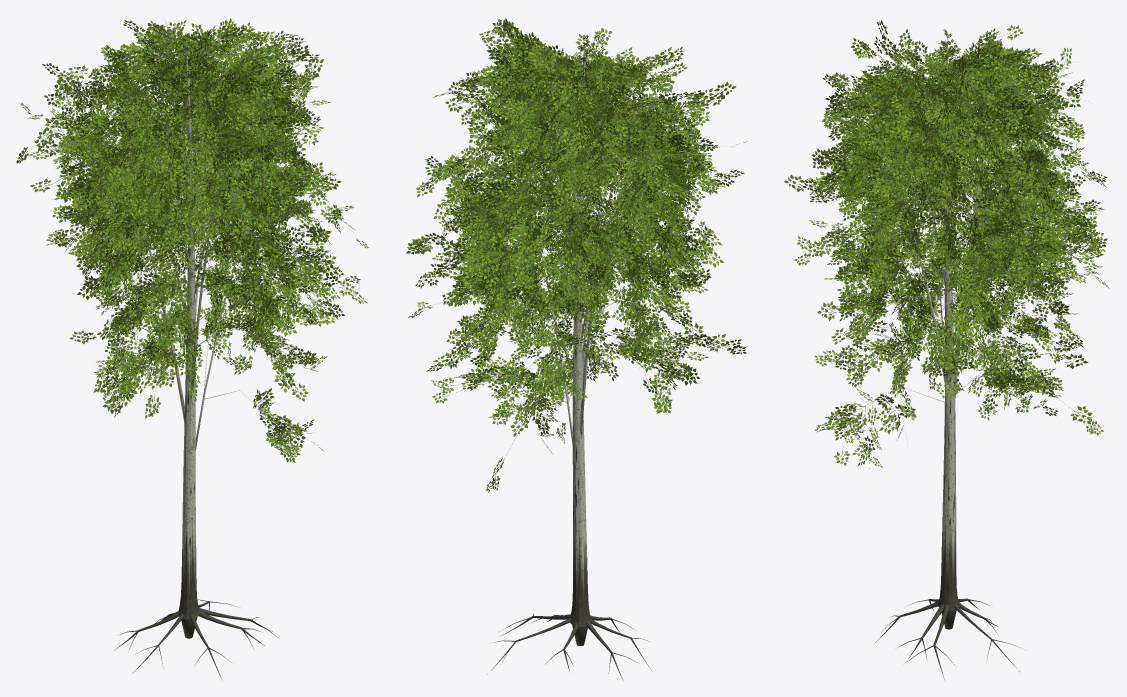
The model's file is tree_east_birch_overstory_002.glb.
3 renders of one model, left to right at view 1: azimuth 30°, elevation 25°; view 2: azimuth 150°, elevation 25°; view 3: azimuth 270°, elevation 25°, orthographic. The views are drawn at different scales.
Visible parts, largest first — view 1: tree.east_birch.overstory.002.foliage.001, tree.east_birch.overstory.002.wood.001, tree.east_birch.overstory.002.roots.001; view 2: tree.east_birch.overstory.002.foliage.001, tree.east_birch.overstory.002.wood.001, tree.east_birch.overstory.002.roots.001; view 3: tree.east_birch.overstory.002.foliage.001, tree.east_birch.overstory.002.wood.001, tree.east_birch.overstory.002.roots.001.
Part boxes in pixels (x1=…): tree.east_birch.overstory.002.foliage.001: x1=16, y1=18, x2=368, y2=462; tree.east_birch.overstory.002.wood.001: x1=31, y1=33, x2=331, y2=618; tree.east_birch.overstory.002.roots.001: x1=114, y1=599, x2=277, y2=678; tree.east_birch.overstory.002.foliage.001: x1=406, y1=18, x2=746, y2=492; tree.east_birch.overstory.002.wood.001: x1=447, y1=36, x2=731, y2=625; tree.east_birch.overstory.002.roots.001: x1=487, y1=613, x2=652, y2=679; tree.east_birch.overstory.002.foliage.001: x1=784, y1=20, x2=1109, y2=467; tree.east_birch.overstory.002.wood.001: x1=804, y1=32, x2=1096, y2=609; tree.east_birch.overstory.002.roots.001: x1=875, y1=598, x2=1019, y2=679.
Size of the model in its own units: 5.01 by 9.79 by 4.78.
Materials: 5 (5 with a texture image).
